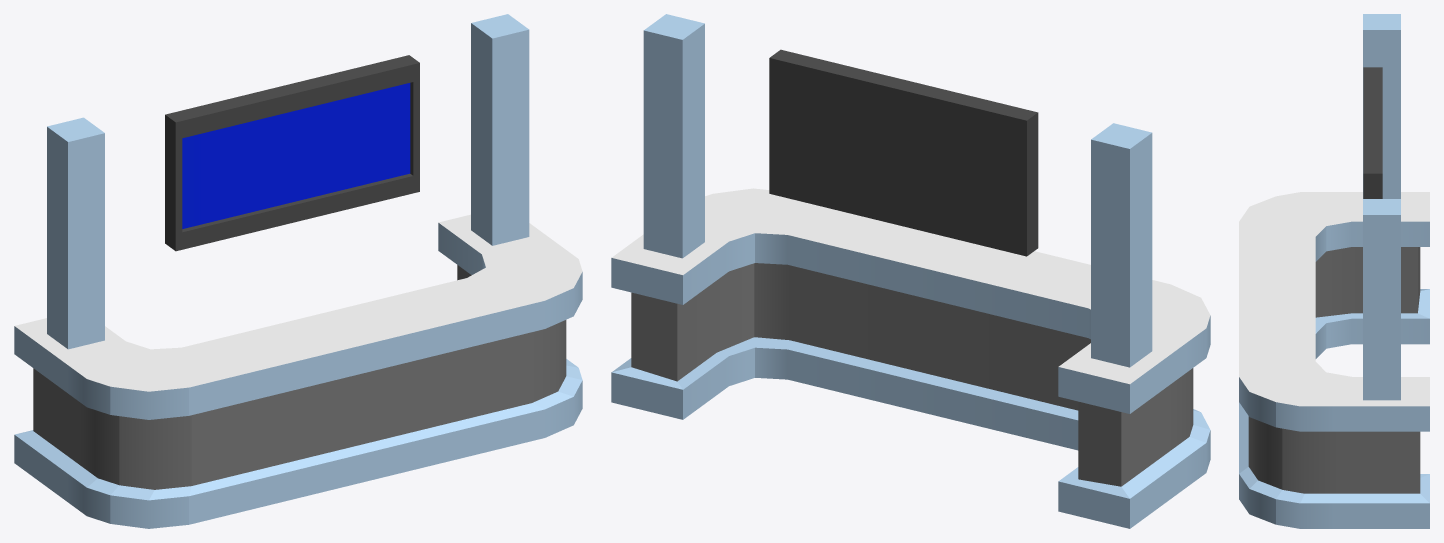
Rendered from SM_Reception_Big.fbx.
The picture shows the model from 3 angles, left to right: view 1: azimuth 30°, elevation 25°; view 2: azimuth 150°, elevation 25°; view 3: azimuth 270°, elevation 25°; orthographic projection. The views are drawn at different scales.
Visible parts, largest first — view 1: SM_Reception_Big; view 2: SM_Reception_Big; view 3: SM_Reception_Big.
Part boxes in pixels (x1,y1,x2,y2): SM_Reception_Big: (14, 14, 582, 528); SM_Reception_Big: (611, 14, 1210, 528); SM_Reception_Big: (1239, 14, 1429, 528).
Bounding box in the file's own units: 421 × 282 × 158.
Materials: 1 (1 with a texture image).
